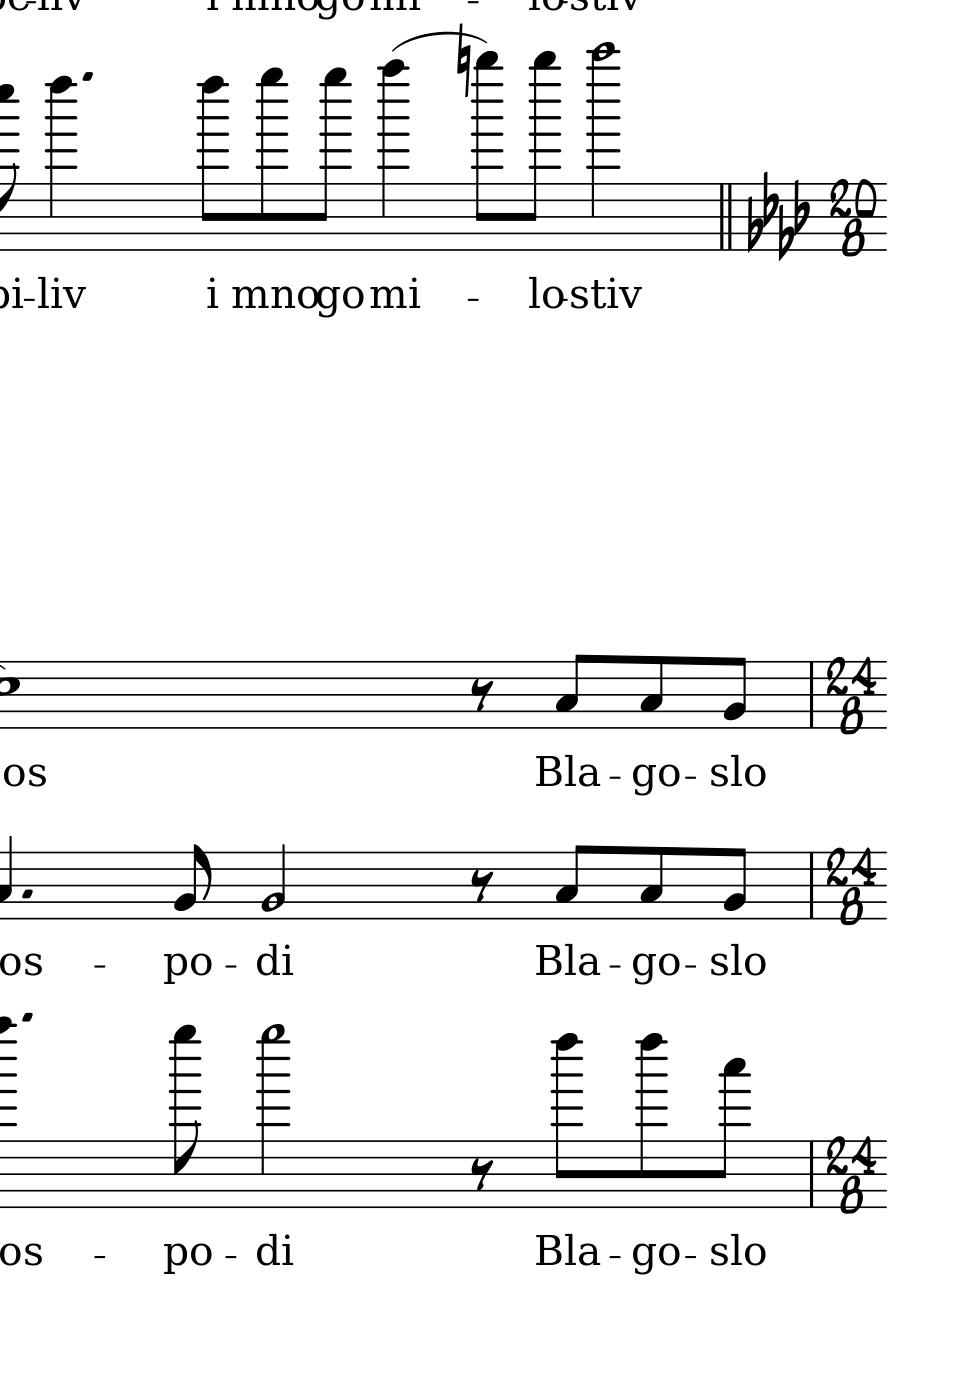0: (848, 177, 877, 220)
2: (825, 844, 853, 885), (824, 653, 848, 696), (826, 179, 852, 218)
2_2: (259, 842, 287, 922)
4: (850, 656, 879, 696), (851, 1135, 878, 1175), (851, 846, 878, 885)
8: (836, 885, 867, 927), (838, 694, 867, 737), (837, 1174, 867, 1215), (839, 217, 867, 257)
8_2: (173, 843, 211, 920), (721, 846, 747, 922), (722, 656, 747, 731)
8_3: (553, 652, 588, 731), (553, 843, 588, 922), (638, 844, 665, 922), (637, 654, 664, 731)
A_F: (746, 174, 809, 262)
Cclef: (827, 844, 874, 927), (825, 657, 872, 740), (832, 176, 878, 259)
Double_barline: (715, 185, 736, 251)
Natural: (453, 23, 472, 99)
Rests8: (468, 677, 495, 713), (467, 1157, 495, 1191), (468, 869, 495, 903)
Single_barline: (803, 1141, 820, 1207), (804, 661, 819, 729), (804, 852, 819, 919)
Slur: (390, 32, 486, 53)
TimeSig: (828, 1134, 874, 1215)
dot: (19, 885, 34, 901)
